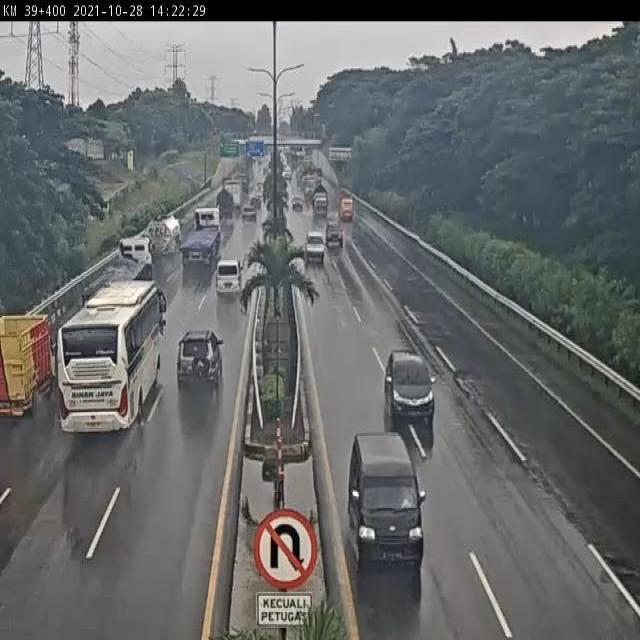big bus: (56, 281, 166, 436)
car: (347, 432, 425, 567), (382, 346, 437, 426), (175, 328, 224, 392), (213, 258, 242, 298), (303, 230, 325, 262), (323, 216, 343, 247)
truck-l-: (142, 212, 183, 260)
truck-s-: (0, 312, 54, 419)
truck-xl-: (79, 233, 154, 303), (181, 205, 222, 264)
